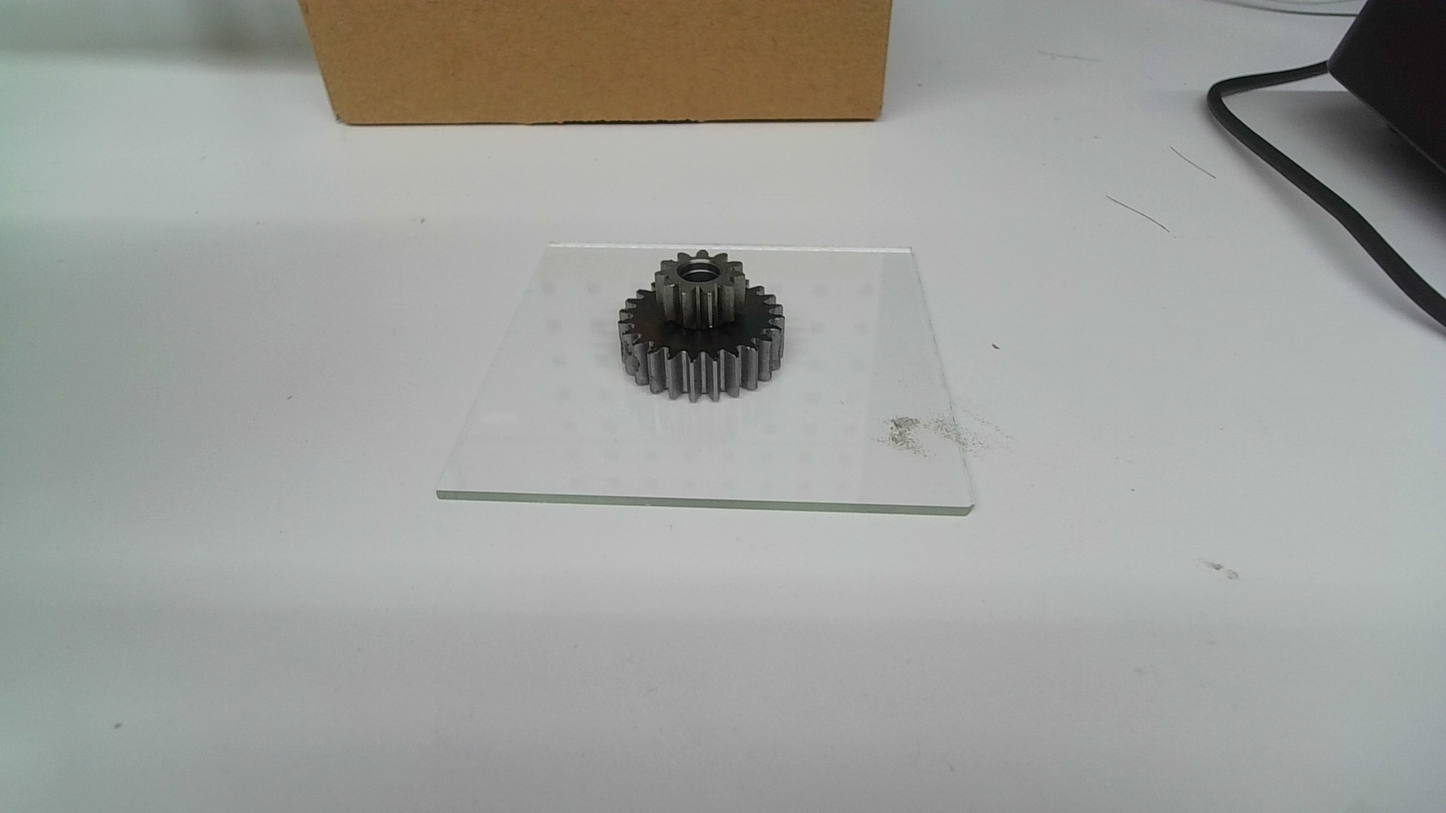gear: (617, 246, 787, 406)
